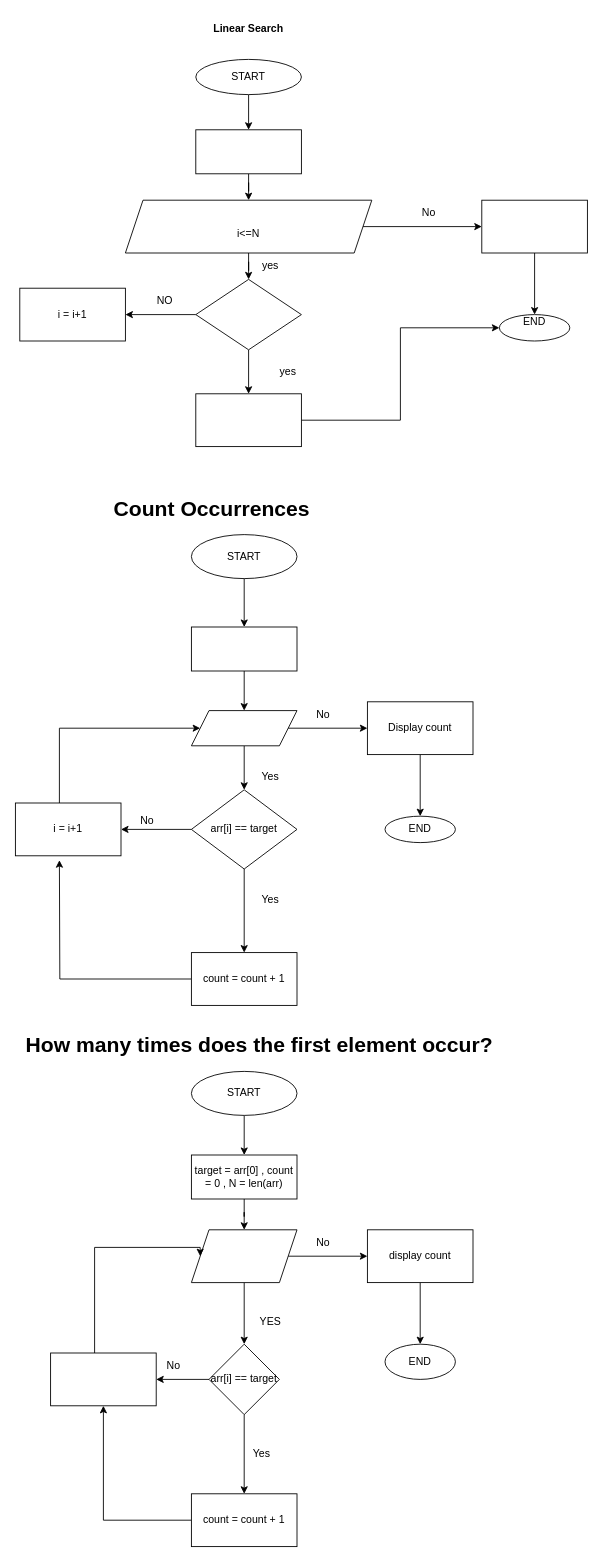
This 603x1562 diagram has some shape labels left out. Here are the shapes that lost their labels. From the top down, the box of each, then its label:
(195, 129, 301, 174): N = len(arr) , target = value
(481, 199, 587, 253): Display "Not Found"
(195, 279, 301, 350): if arr[i] == target
(195, 393, 301, 447): return "Found"
(191, 626, 297, 671): Count =0 , N = len(arr) , target = value
(191, 710, 297, 746): i <= N
(191, 1229, 297, 1283): I < = N
(50, 1352, 156, 1406): i = i + 1
